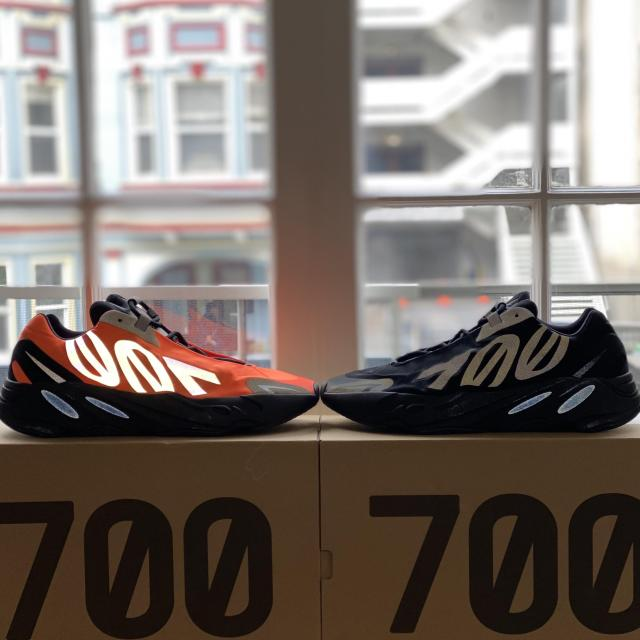shoe: (314, 284, 640, 453), (0, 289, 329, 449)
